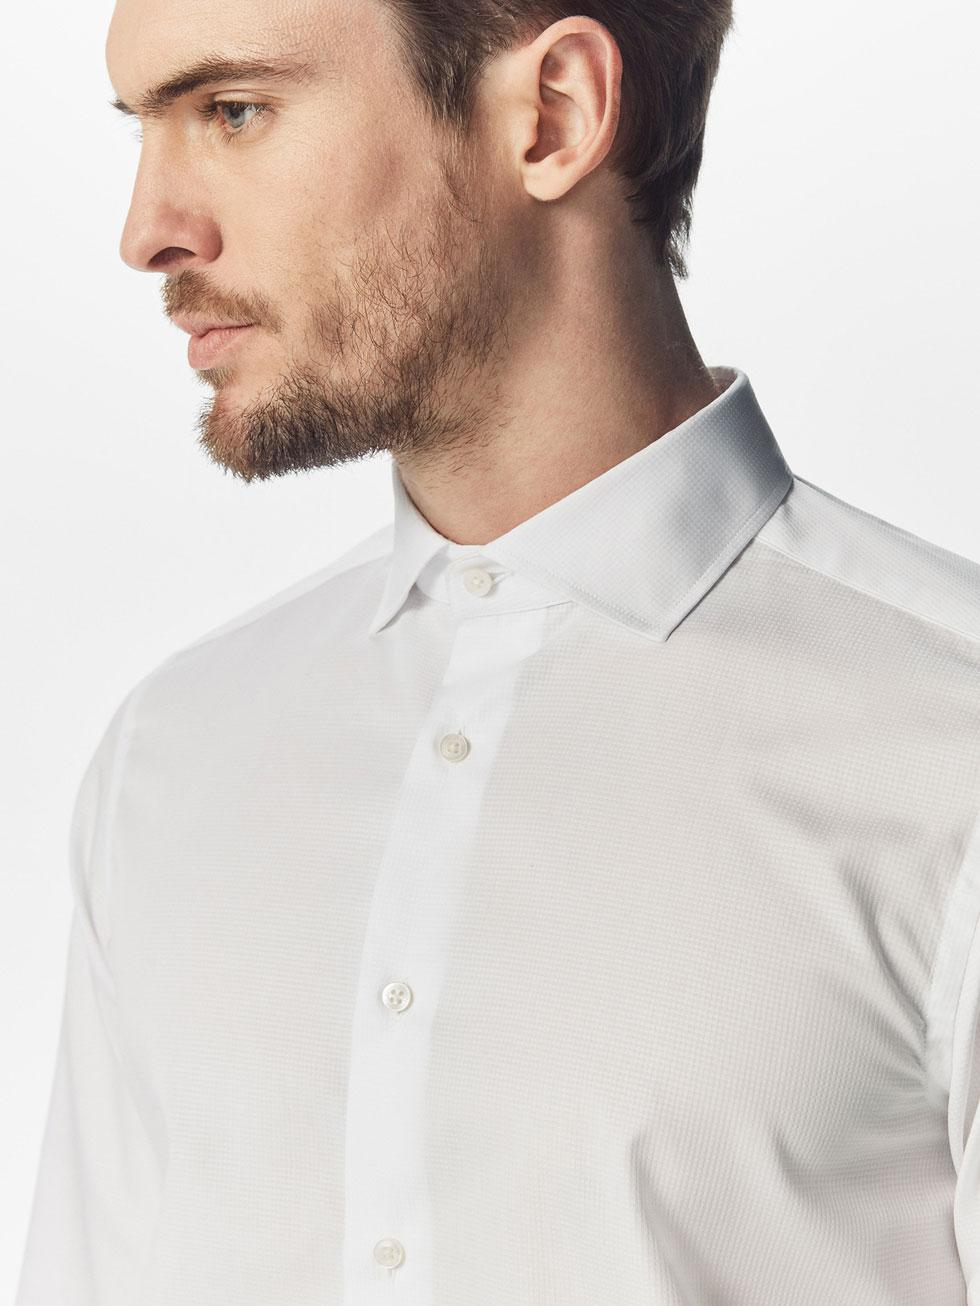teeshirt: (43, 411, 980, 1302)
